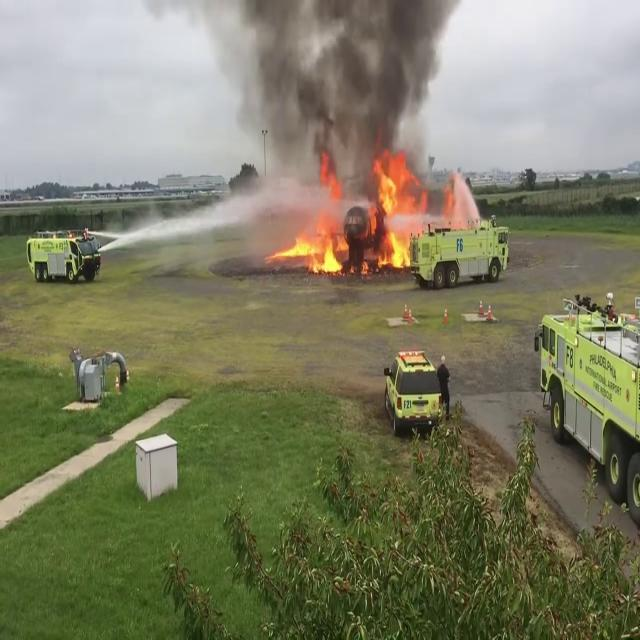Fire: (370, 151, 424, 269), (273, 220, 347, 276)
Smoke: (206, 0, 467, 186)
